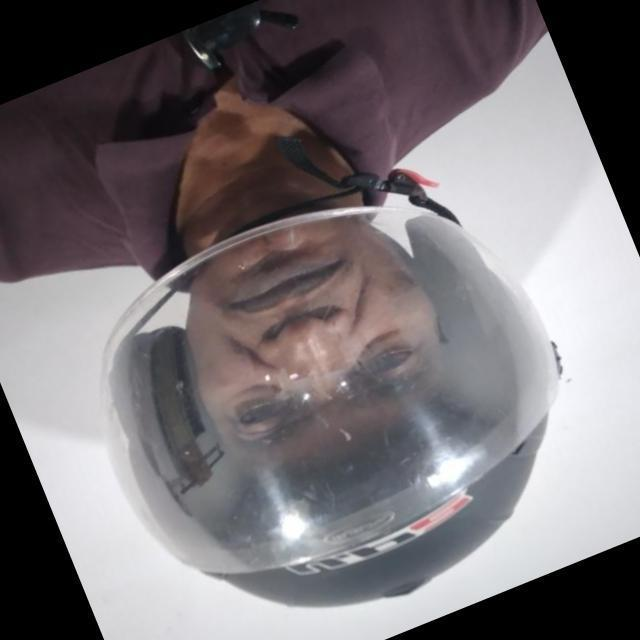with_helmet: (92, 193, 569, 606)
